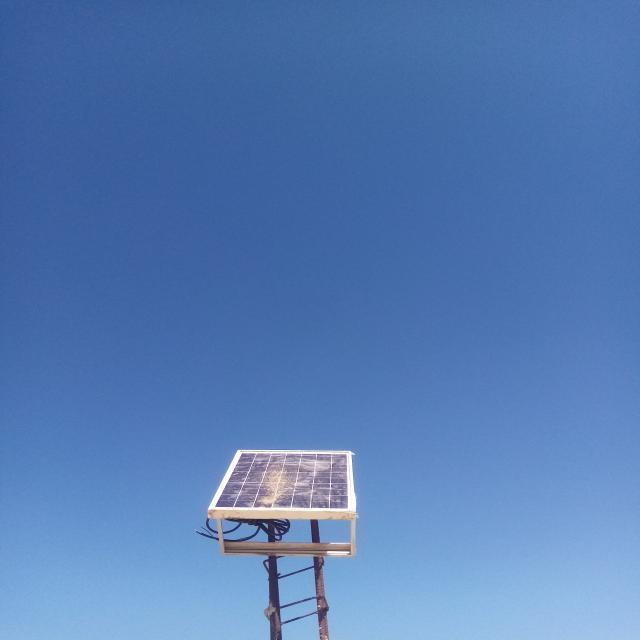faulty: (208, 449, 352, 513)
